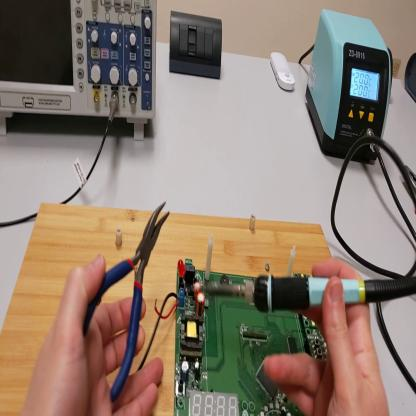hand: (25, 254, 164, 416), (265, 265, 391, 416)
low voltage board: (143, 233, 327, 416)
oscilloscope: (1, 1, 157, 144)
pliers: (82, 200, 171, 404)
socket: (405, 51, 416, 103)
welder probe tip: (199, 270, 416, 315)
welder station: (305, 13, 392, 164)
working area: (2, 205, 330, 412)
